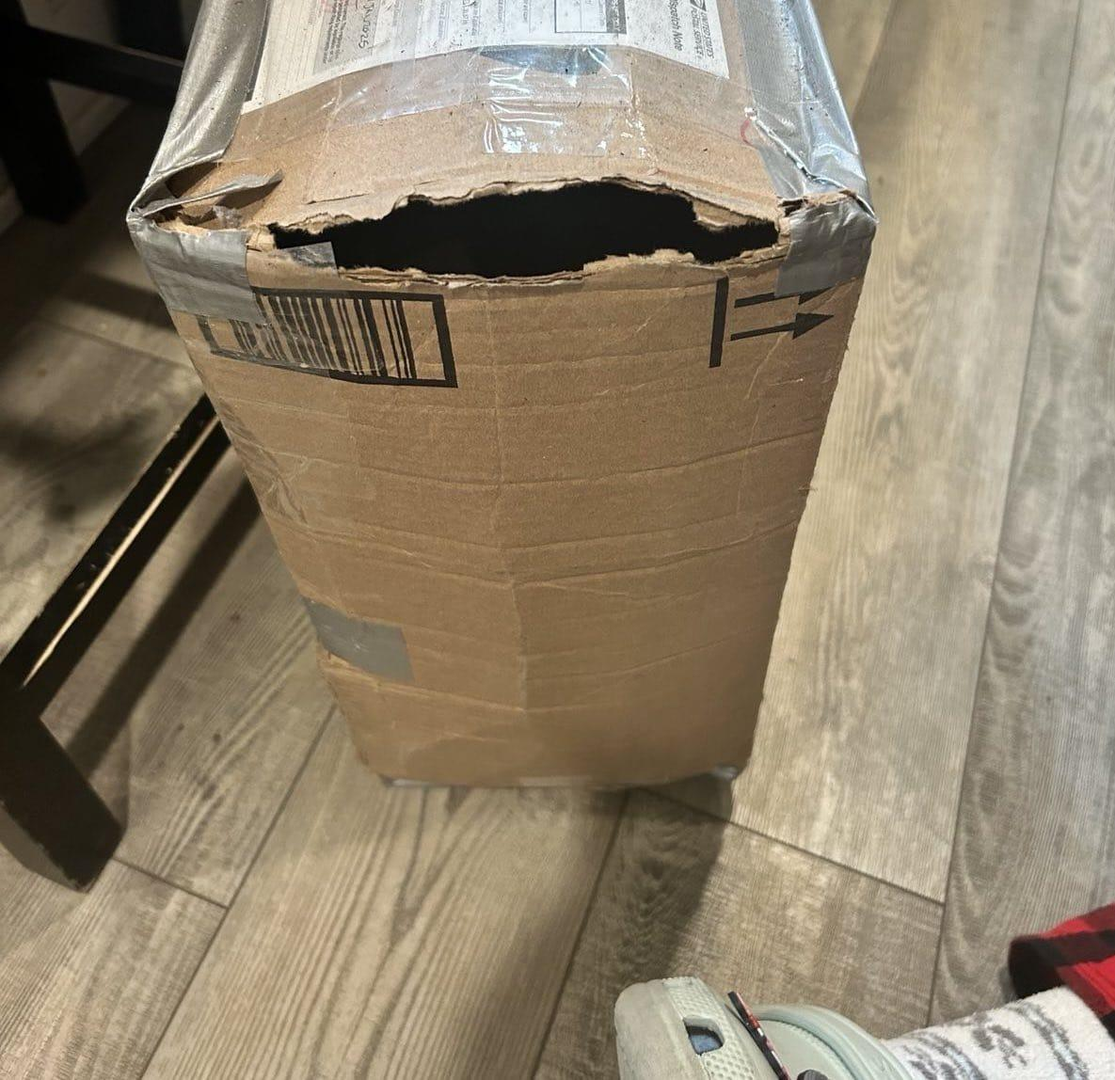damaged package: (133, 158, 845, 279)
undamaged: (112, 0, 899, 827)
